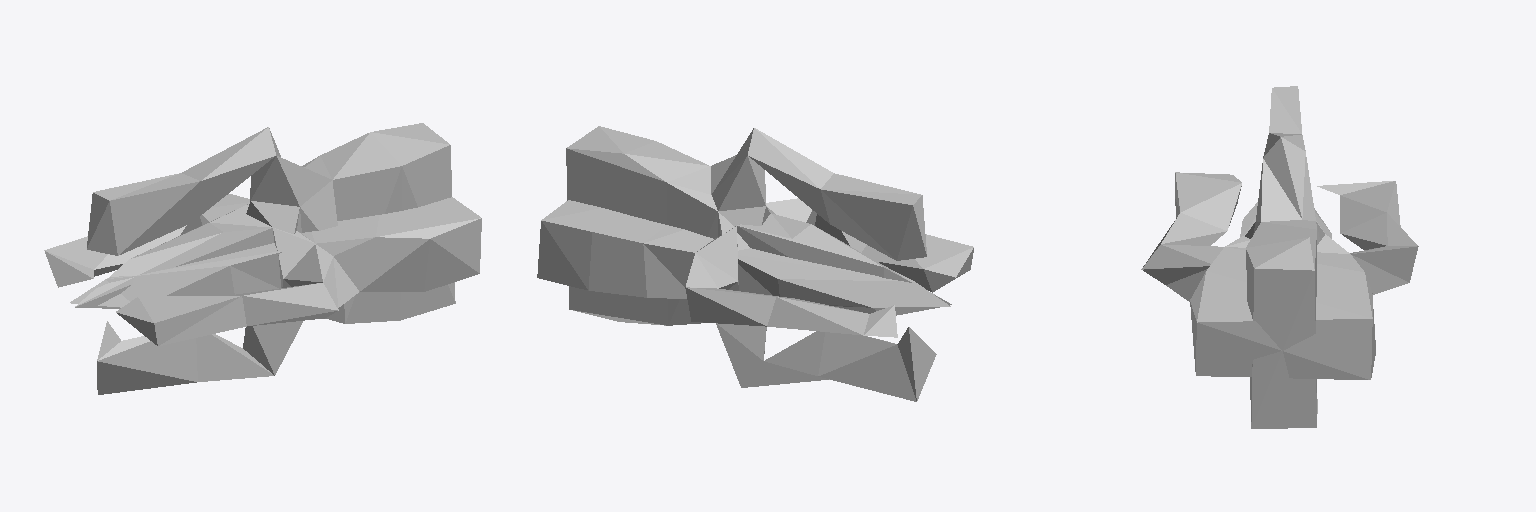
3 renders of one model, left to right at view 1: azimuth 30°, elevation 25°; view 2: azimuth 150°, elevation 25°; view 3: azimuth 270°, elevation 25°, orthographic.
Visible parts, largest first — view 1: unknown; view 2: unknown; view 3: unknown.
Boxes of the visible parts, box(x1,y1,x2,y2) form: unknown: box(44, 123, 481, 394); unknown: box(537, 126, 973, 401); unknown: box(1141, 86, 1418, 428).
Bounding box in the file's own units: 0.4724 × 0.3062 × 0.3062.